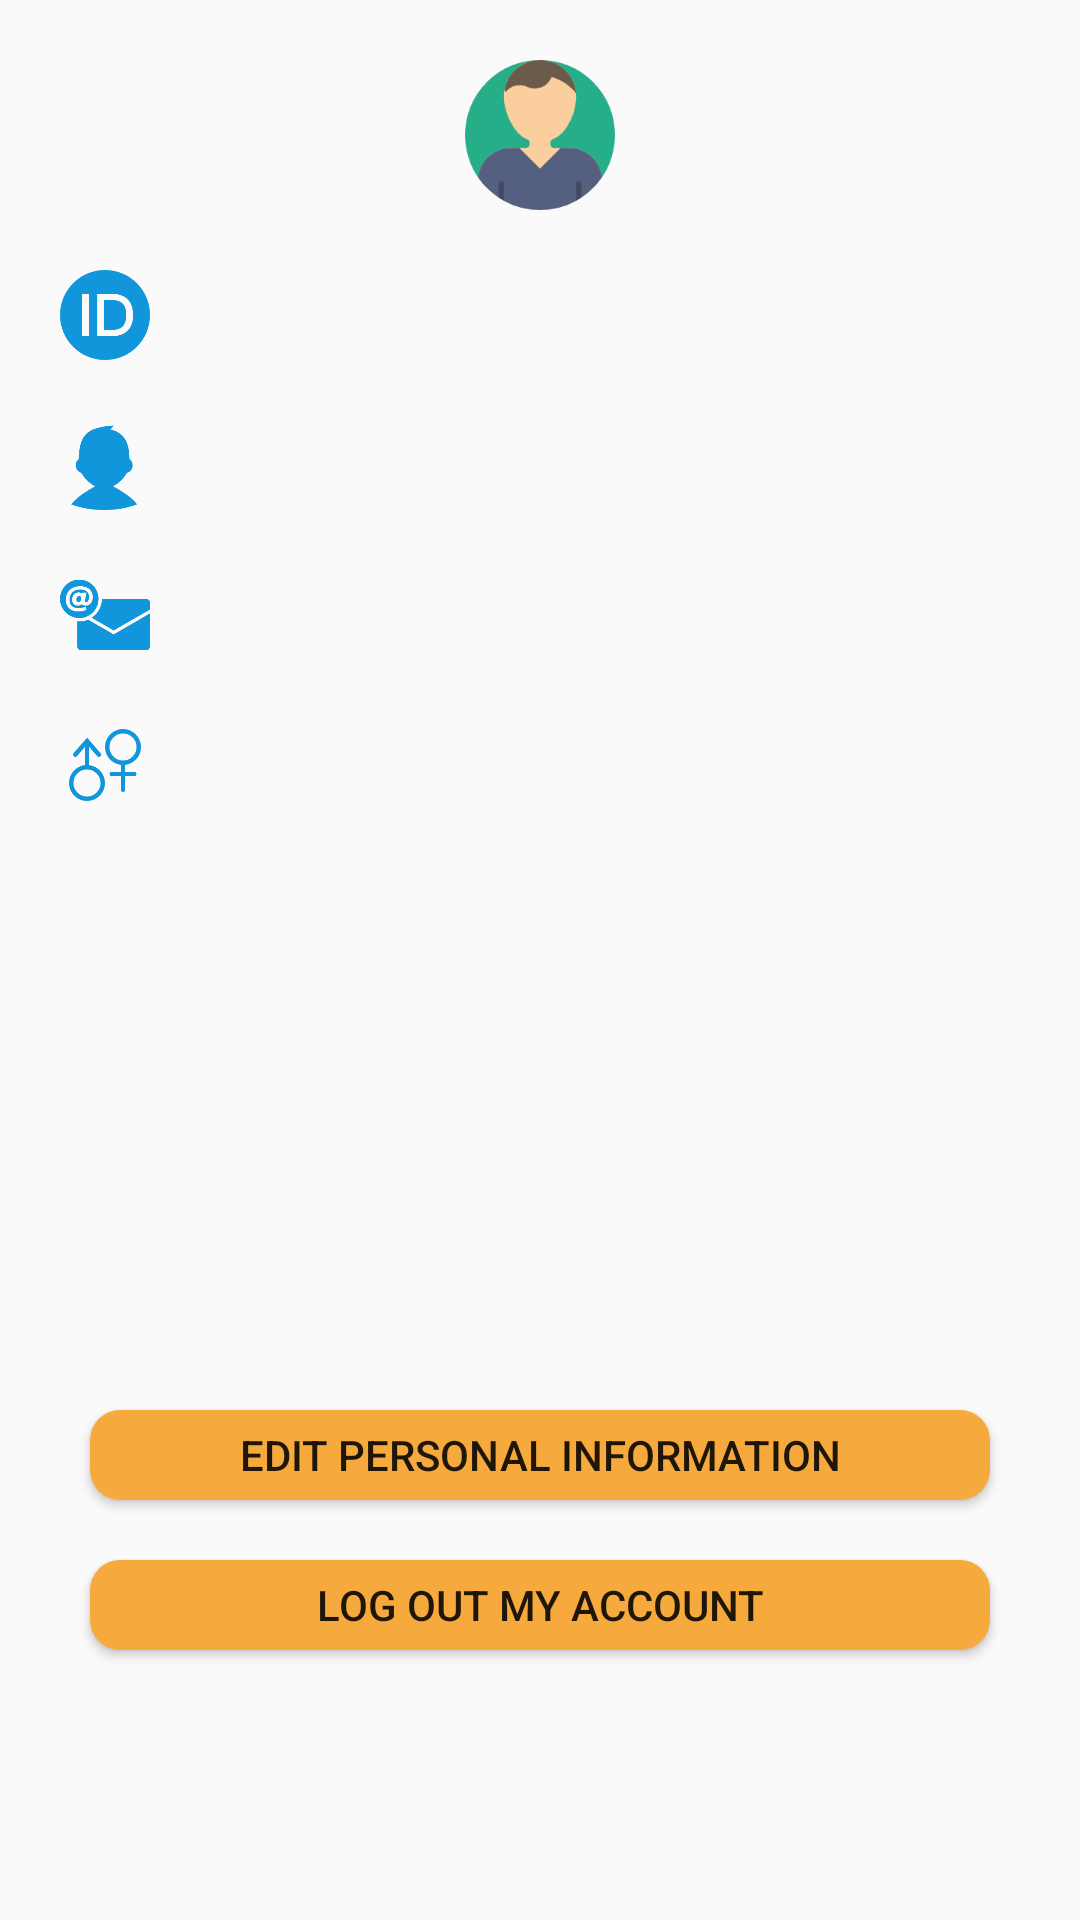

Screen size 1080 x 1920. Icon name, then its center in pixels as (x,y):
email: (105,615)
gender: (105,765)
nickname: (104,467)
user personal: (540,135)
